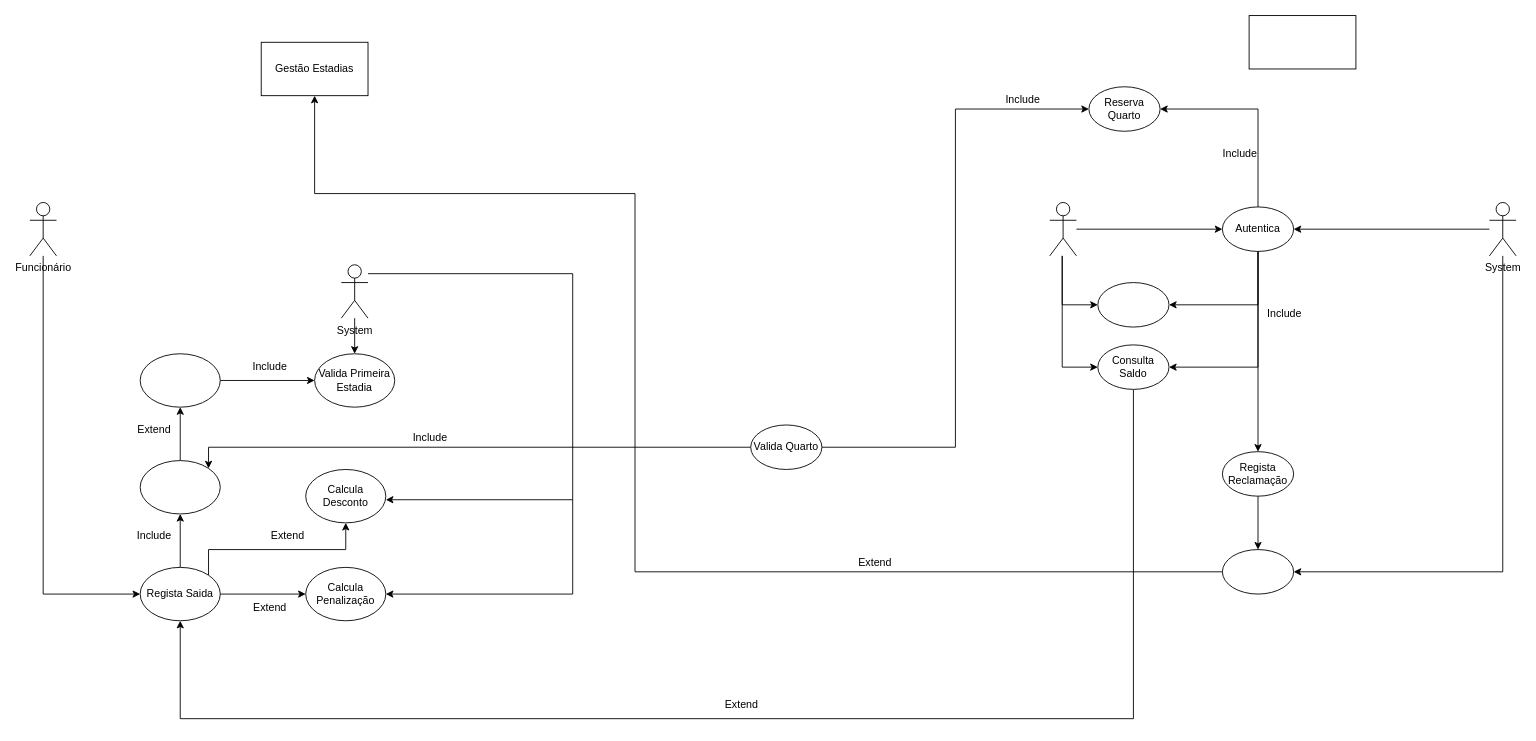
Some shapes in this 1536 by 741 pixel diagram are drawn without their labels. Each missing label, with the centre of its shape:
Cliente: the point at 1062,229
Consulta Movimentos: the point at 1133,304
Contacto Cliente: the point at 1302,42
Cria Ficha Cliente: the point at 179,380
Envia Notificação: the point at 1258,571
Regista Entrada: the point at 179,487
